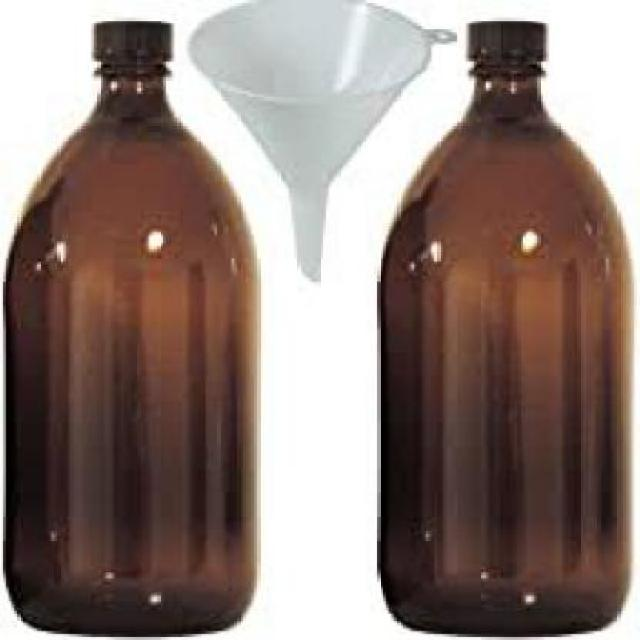kaca: (374, 58, 629, 637), (0, 64, 255, 638)
